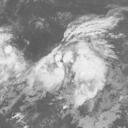cyclone: (32, 19, 104, 98)
